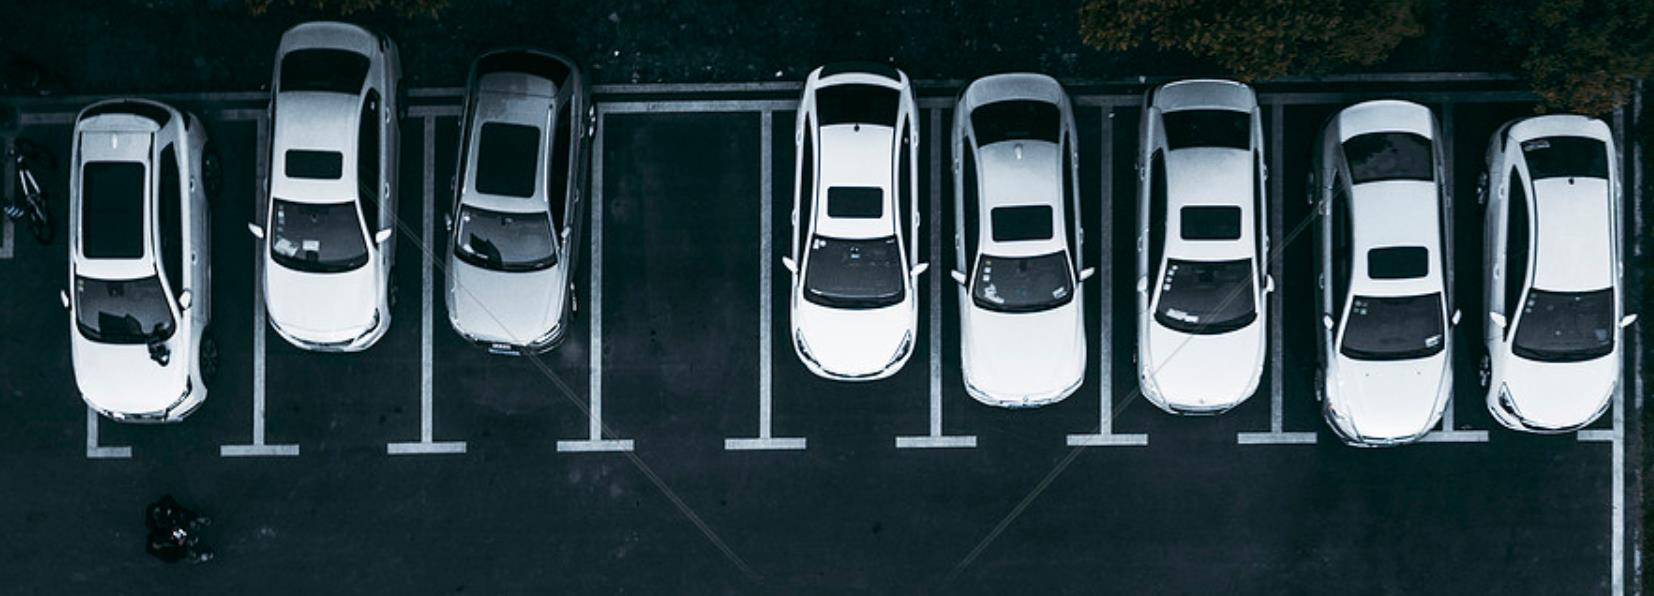car: (54, 91, 229, 434), (1299, 98, 1465, 451), (1472, 108, 1645, 438), (1119, 72, 1278, 415), (427, 43, 599, 355), (941, 75, 1094, 416), (770, 60, 931, 380), (249, 8, 392, 360)
